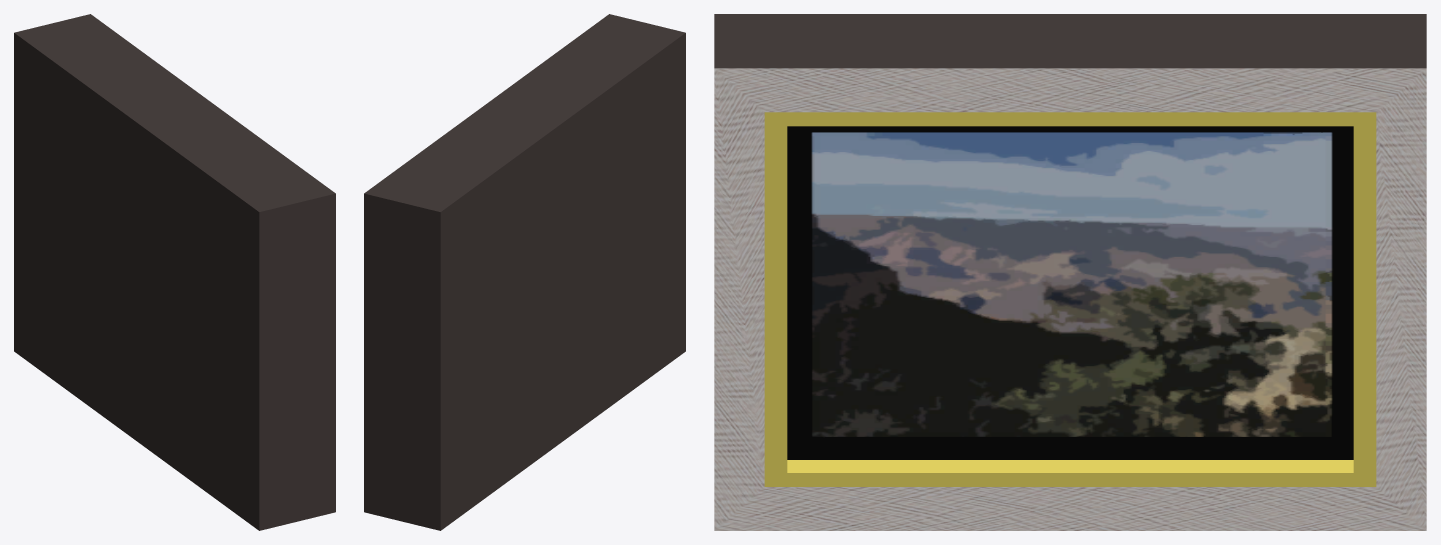
The model's file is Painting_Framed_1.fbx.
The picture shows the model from 3 angles, left to right: view 1: azimuth 30°, elevation 25°; view 2: azimuth 150°, elevation 25°; view 3: azimuth 270°, elevation 25°; orthographic projection. The views are drawn at different scales.
Visible parts, largest first — view 1: Painting_1; view 2: Painting_1; view 3: Painting_1.
Part boxes in pixels (box(x1,y1,x2,y2)): Painting_1: box(14, 14, 335, 530); Painting_1: box(364, 14, 685, 530); Painting_1: box(714, 14, 1426, 530).
Size of the model in its own units: 32.75 by 130 by 182.
